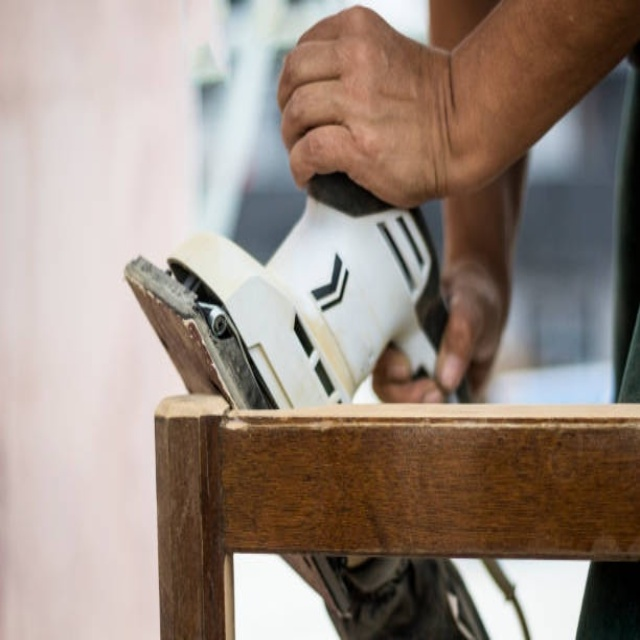Sin_guantes: (275, 3, 452, 210), (370, 232, 510, 406)
